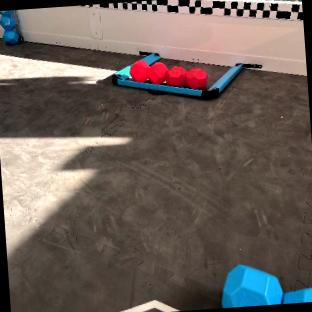Parking-R: (112, 52, 254, 98)
V5_BLUE: (222, 265, 312, 307), (0, 10, 18, 45)
